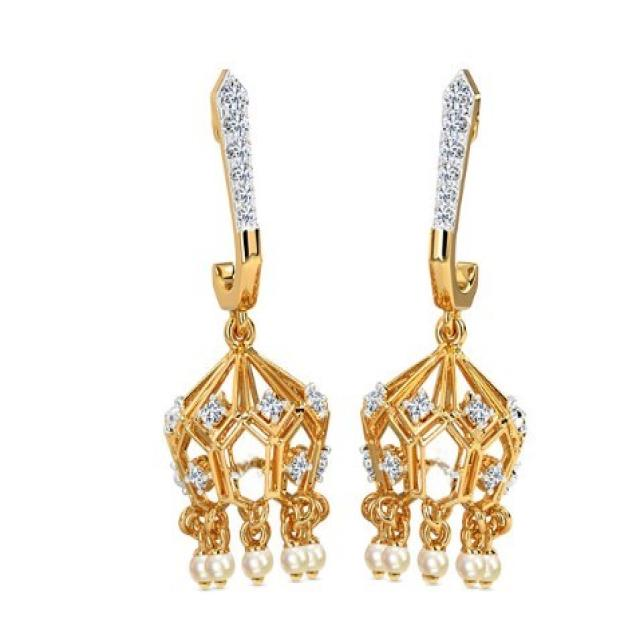missing gem: (233, 456, 266, 495), (426, 459, 458, 490)
